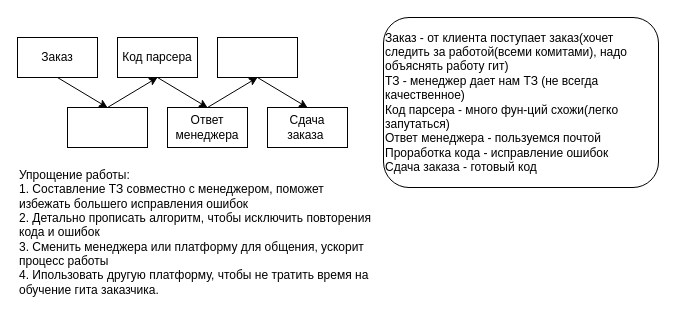
Image size: 676x315. Some labels were removed from this diagram. The shapes that lost their labels are listed below. From the top down, each one's centre as x and y in pixels, then its label:
At point 257,57: "Исправление ошибок/детализация".
At point 107,127: "ТЗ".
